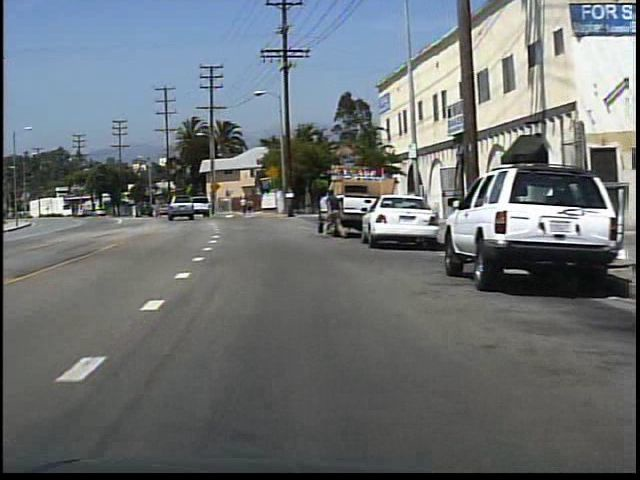person: (320, 185, 343, 241), (244, 197, 255, 215), (238, 195, 247, 217)
